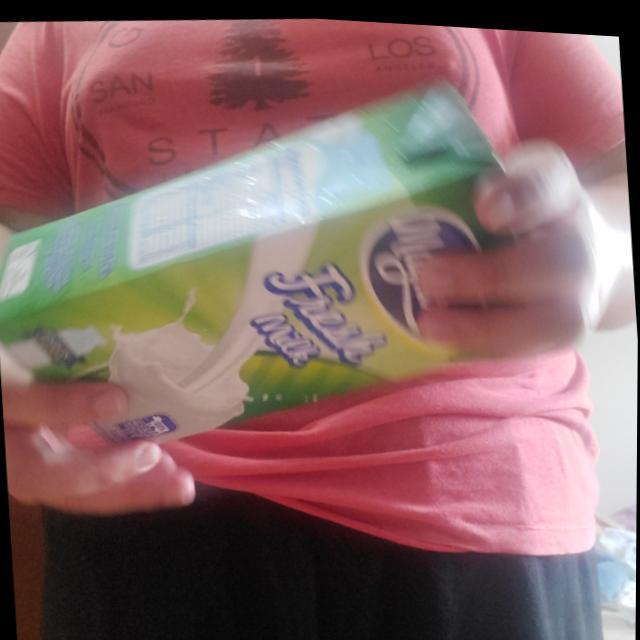milk: (0, 50, 560, 477)
